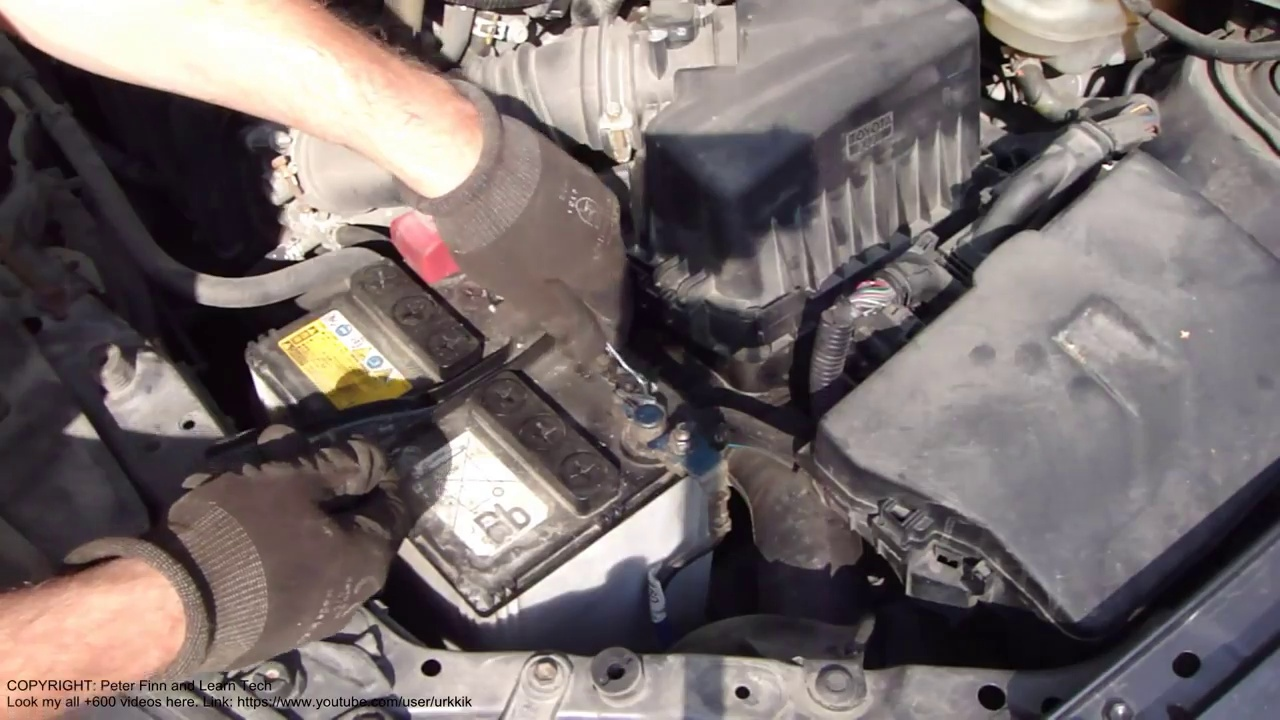battery: (239, 208, 721, 598)
neg_connected: (595, 395, 752, 506)
pos_touched: (352, 183, 627, 346)
